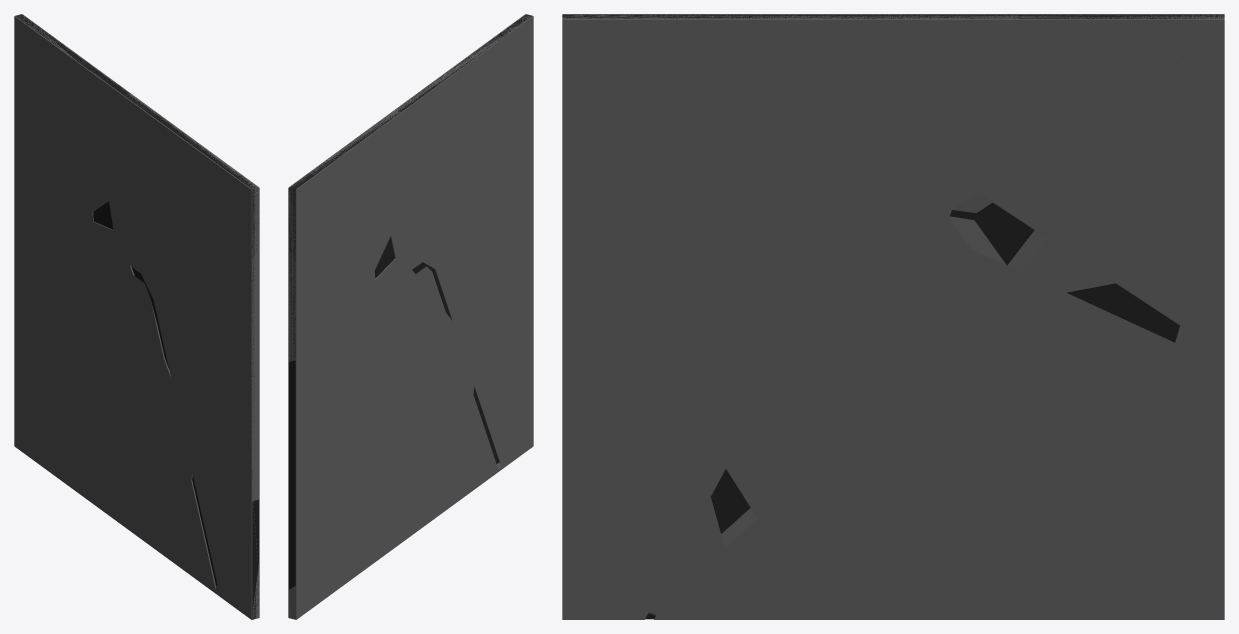
Rendered from Walls.glb.
The picture shows the model from 3 angles, left to right: view 1: azimuth 30°, elevation 25°; view 2: azimuth 150°, elevation 25°; view 3: azimuth 270°, elevation 25°; orthographic projection. The views are drawn at different scales.
Parts seen in each view (by area): view 1: Cube.002, Cube, Cube.001; view 2: Cube, Cube.001, Cube.002; view 3: Cube.002, Cube, Cube.001.
Boxes of the visible parts, left/top/right/bottom form: Cube.002: left=14, top=14, right=259, bottom=619; Cube: left=14, top=14, right=259, bottom=619; Cube.001: left=14, top=14, right=259, bottom=618; Cube: left=288, top=14, right=533, bottom=619; Cube.001: left=288, top=17, right=533, bottom=595; Cube.002: left=288, top=14, right=533, bottom=619; Cube.002: left=562, top=14, right=1224, bottom=619; Cube: left=562, top=14, right=1224, bottom=619; Cube.001: left=562, top=14, right=1224, bottom=619.
Bounding box in the file's own units: 1 × 50.2 × 50.2.
Materials: 1 (1 with a texture image).
